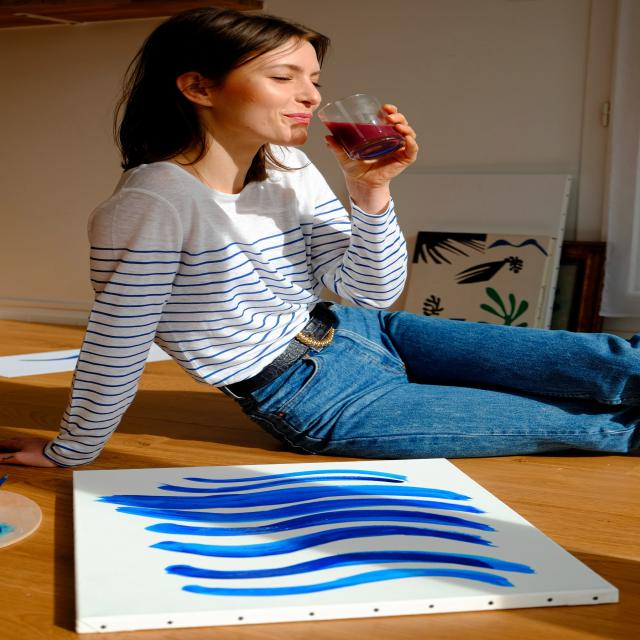adult: (1, 0, 635, 485)
